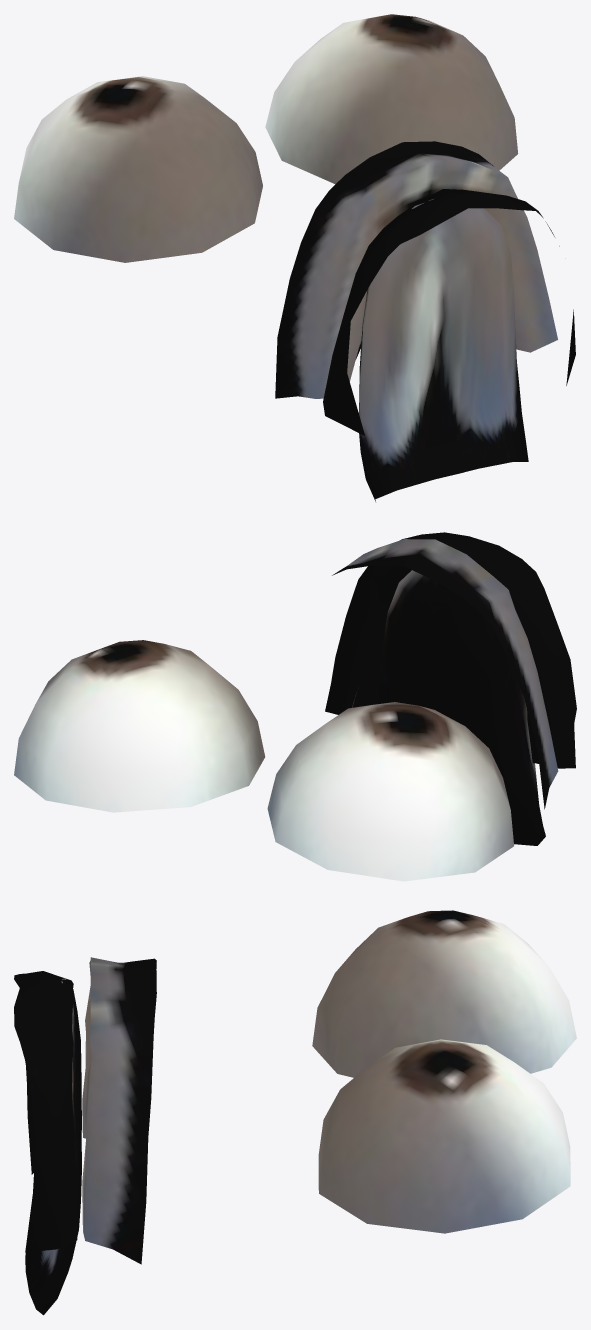
Rendered from model_chunk_2.glb.
The picture shows the model from 3 angles, top to bottom: view 1: azimuth 30°, elevation 25°; view 2: azimuth 150°, elevation 25°; view 3: azimuth 270°, elevation 25°; orthographic projection. The views are drawn at different scales.
Parts seen in each view (by area): view 1: Noah_hunter_inners; view 2: Noah_hunter_inners; view 3: Noah_hunter_inners.
Boxes of the visible parts, x1,y1,x2,y2 form: Noah_hunter_inners: [14, 14, 575, 501]; Noah_hunter_inners: [14, 532, 576, 881]; Noah_hunter_inners: [14, 910, 576, 1315].
Size of what is drawn, in the model's own units: 0.1849 by 0.1168 by 0.1853.
Materials: 1 (1 with a texture image).
